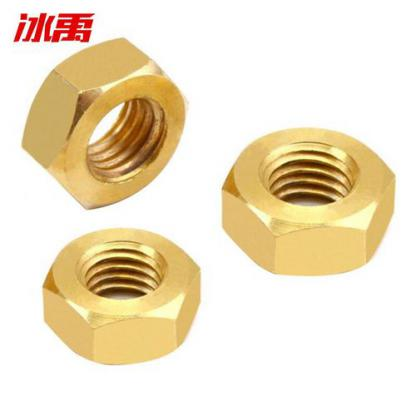FOD: (18, 34, 187, 214), (218, 122, 400, 278), (41, 222, 204, 367)
